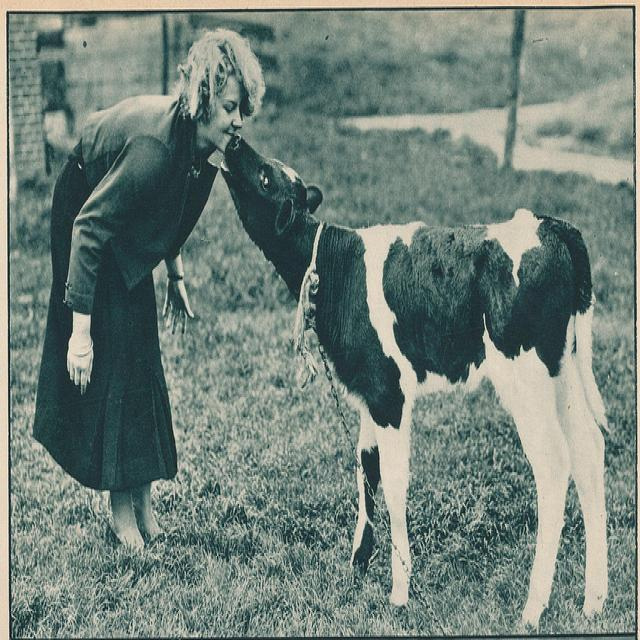cow: (224, 134, 613, 625)
